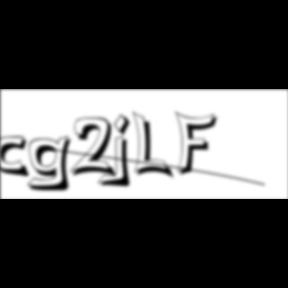2: (71, 117, 121, 181)
F: (175, 110, 223, 178)
L: (133, 110, 177, 182)
c: (0, 136, 34, 180)
g: (27, 134, 79, 194)
j: (110, 113, 138, 191)
